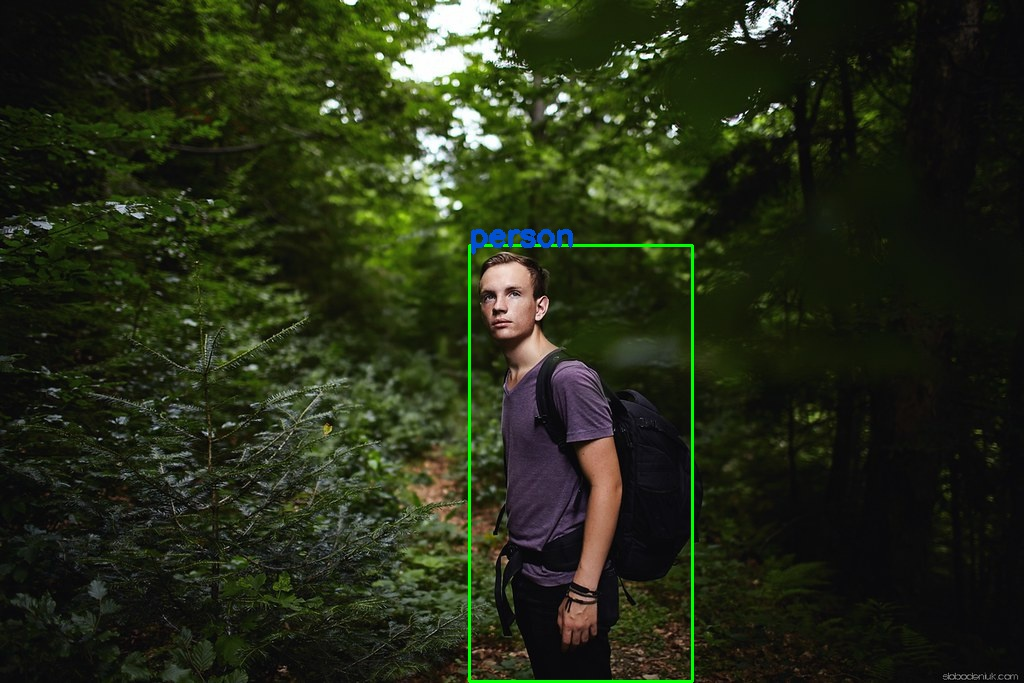person: (469, 245, 692, 681)
